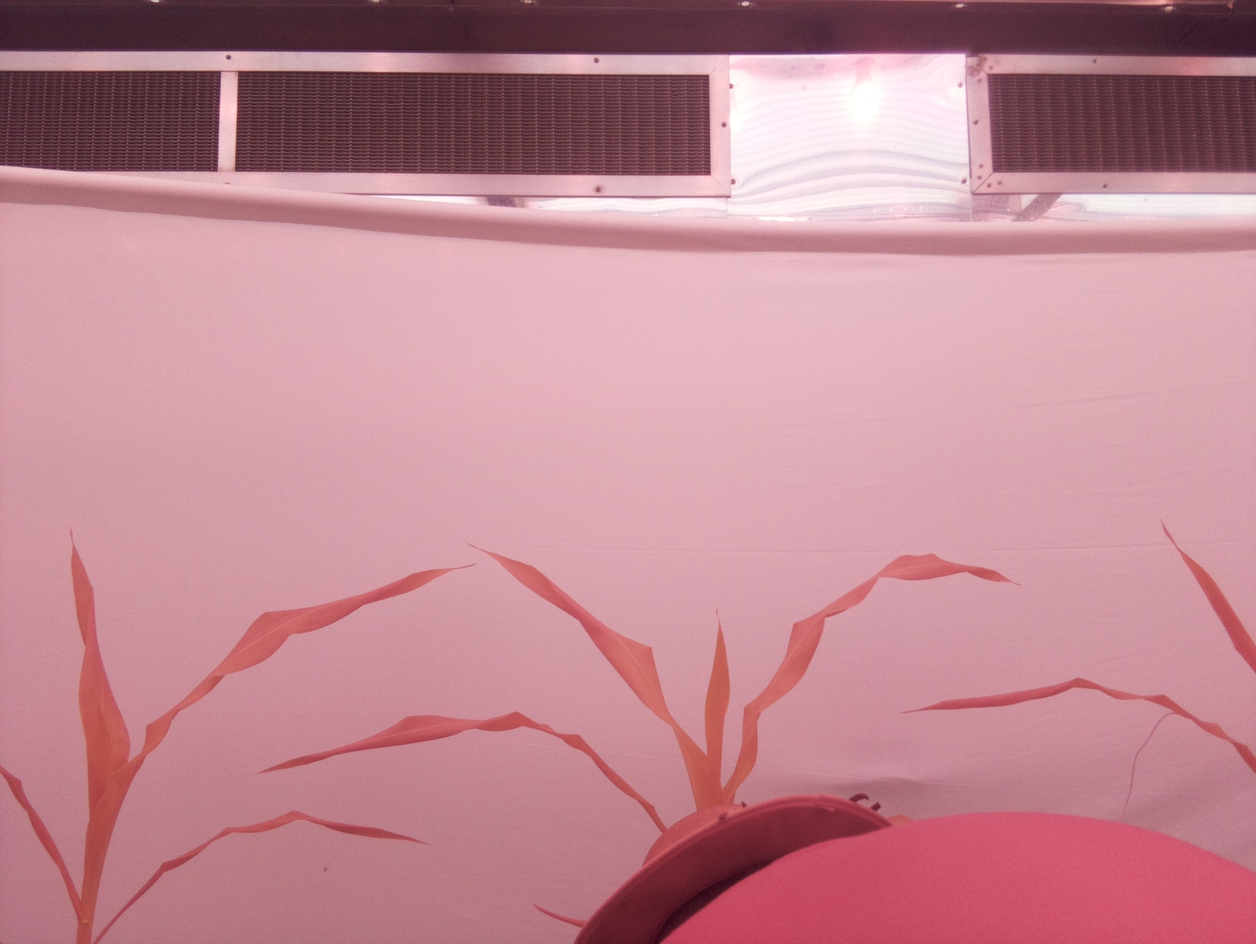maize: (252, 439, 1065, 800), (0, 523, 480, 944), (900, 516, 1256, 824)
